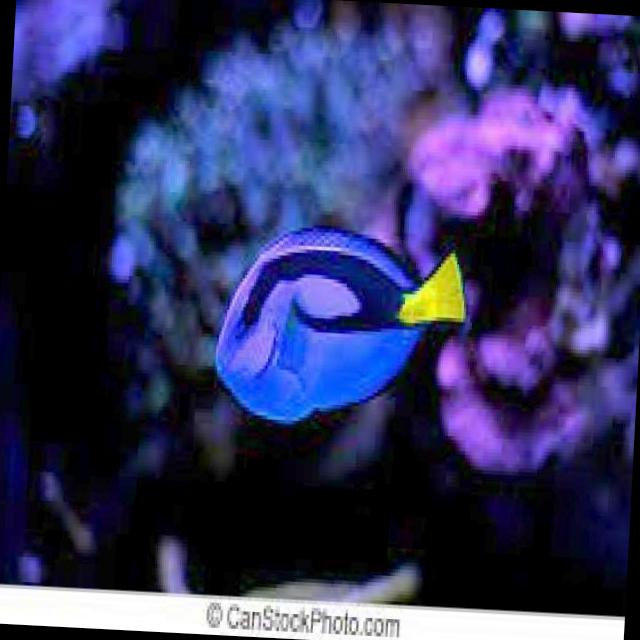TangFish: (210, 213, 474, 432)
